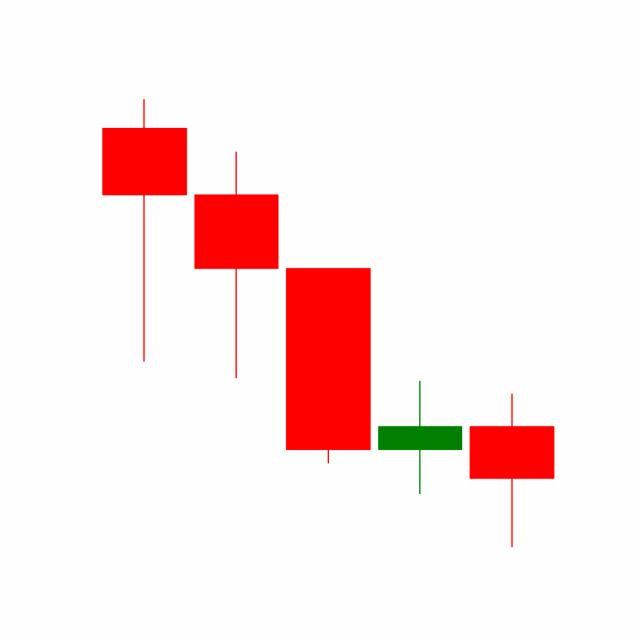Spinning Top: (373, 380, 467, 496)
